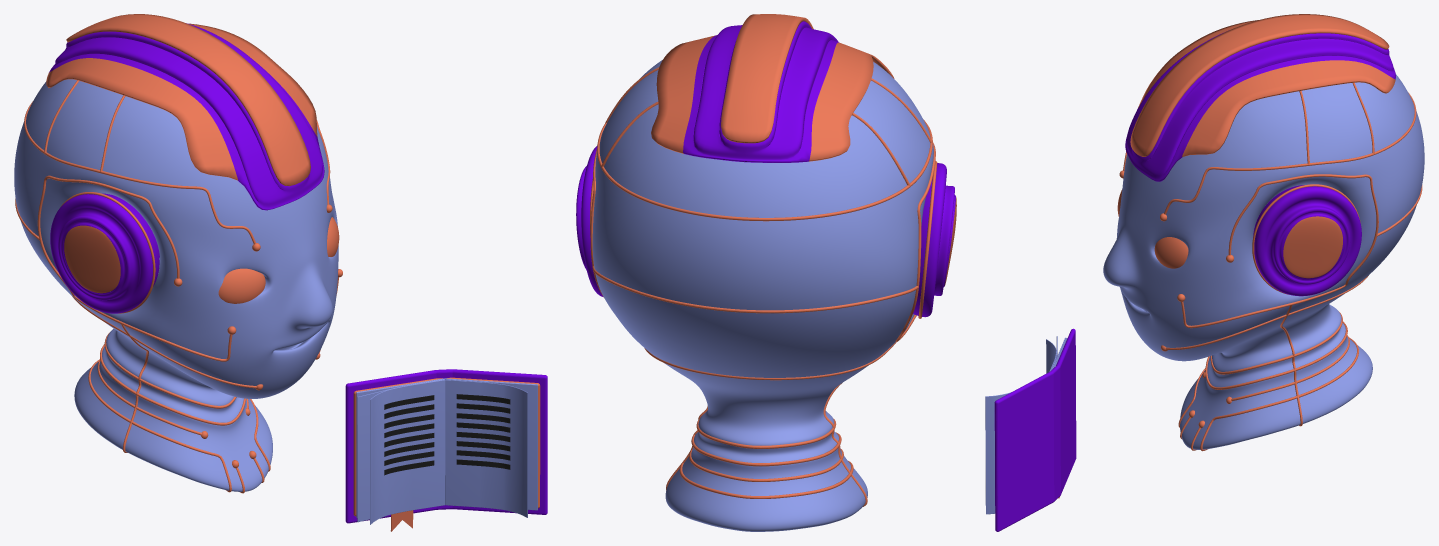
File: supervised-learning-3d-animated-icon-1598807279667.glb
The picture shows the model from 3 angles, left to right: view 1: azimuth 30°, elevation 25°; view 2: azimuth 150°, elevation 25°; view 3: azimuth 270°, elevation 25°; orthographic projection. The views are drawn at different scales.
Parts seen in each view (by area): view 1: Cube.032, Cube.002, Plane.006, Cube.014, Cube.010, Plane.007, Plane, Plane.003, Sphere, Plane.001; view 2: Cube.032, Cube.002, Cube.010, Cube.014, Cube.015; view 3: Cube.032, Cube.002, Plane, Cube.014, Cube.010, Plane.006, Sphere, Cube.015.
Boxes of the visible parts, x1,y1,x2,y2 form: Cube.032: (14, 79, 338, 491); Cube.002: (46, 23, 324, 210); Plane.006: (356, 378, 537, 524); Cube.014: (66, 14, 310, 186); Cube.010: (15, 80, 342, 493); Plane.007: (384, 394, 510, 475); Plane: (345, 369, 547, 523); Plane.003: (357, 379, 444, 522); Sphere: (218, 217, 339, 303); Plane.001: (353, 378, 442, 516); Cube.032: (576, 60, 956, 531); Cube.002: (651, 21, 894, 162); Cube.010: (590, 67, 935, 506); Cube.014: (721, 14, 813, 143); Cube.015: (590, 161, 937, 318); Cube.032: (1103, 74, 1424, 449); Cube.002: (1125, 20, 1395, 181); Plane: (994, 328, 1076, 531); Cube.014: (1130, 14, 1389, 156); Cube.010: (1119, 82, 1422, 451); Plane.006: (985, 337, 1067, 514); Sphere: (1117, 189, 1188, 268); Cube.015: (1252, 184, 1360, 294).
Size of the model in its own units: 0.3831 by 0.4521 by 0.4319.
